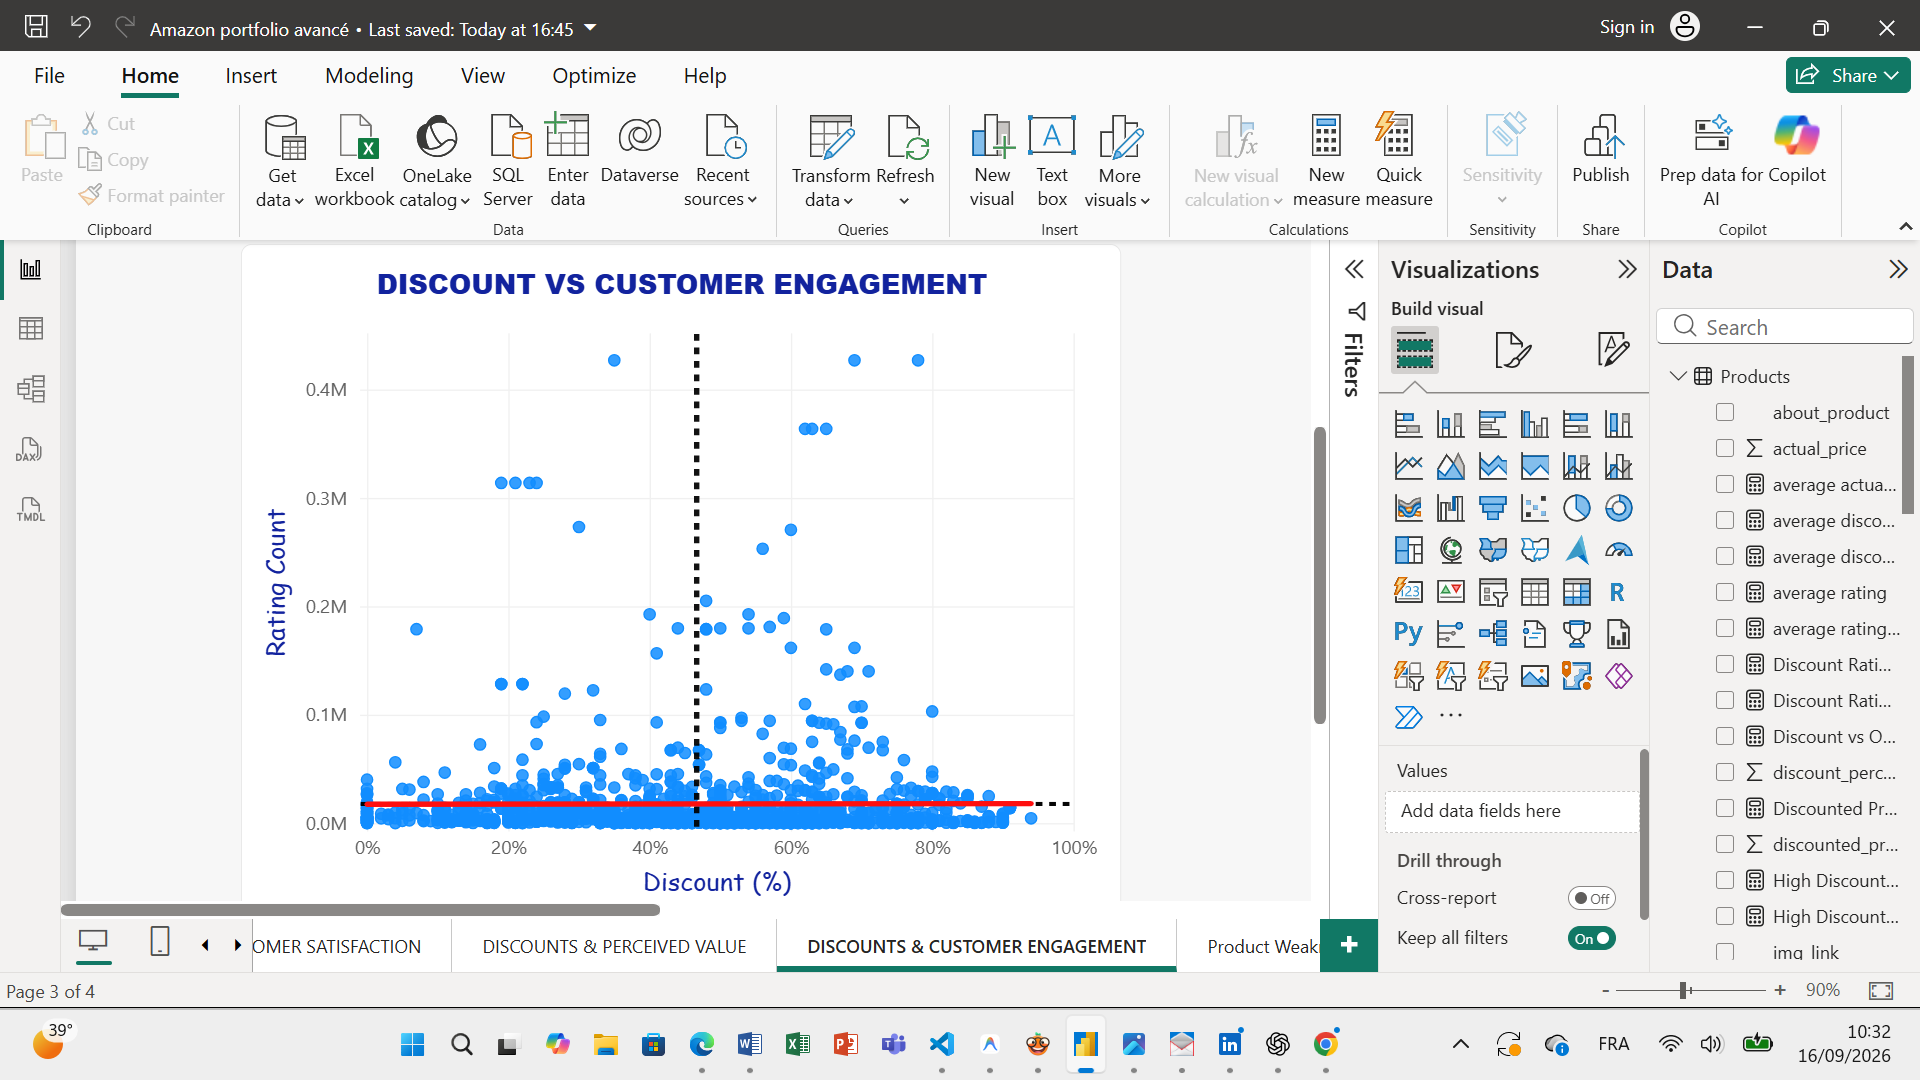

Layout of this report page (visuals, bound fields, positions):
{"tool":"powerbi","page":{"name":"DISCOUNTS & CUSTOMER ENGAGEMENT","canvas":[1920,1080],"ordinal":2},"visuals":[{"type":"scatterChart","title":"DISCOUNT VS CUSTOMER ENGAGEMENT","fields":{"Category":["Products.product_id"],"X":["Avg(Products.discount_percentage)"],"Y":["Sum(Products.rating_count)"]},"box":[0,50,1439.1,609.4],"z":0}]}

Visuals, with their boxes on the page's 1920x1080 design canvas (x1, y1, x2, y2). These are canvas units, not pixel positions in the 1920x1080 screenshot, which may show the page scaled, cropped or inside an application window:
"DISCOUNT VS CUSTOMER ENGAGEMENT" scatterChart: {"left": 0, "top": 50, "right": 1439, "bottom": 659}
